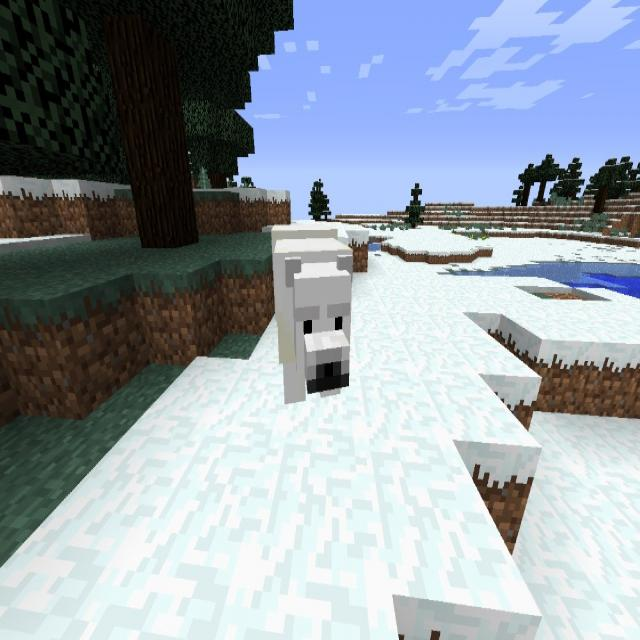Polar Bear: (270, 218, 352, 406)
